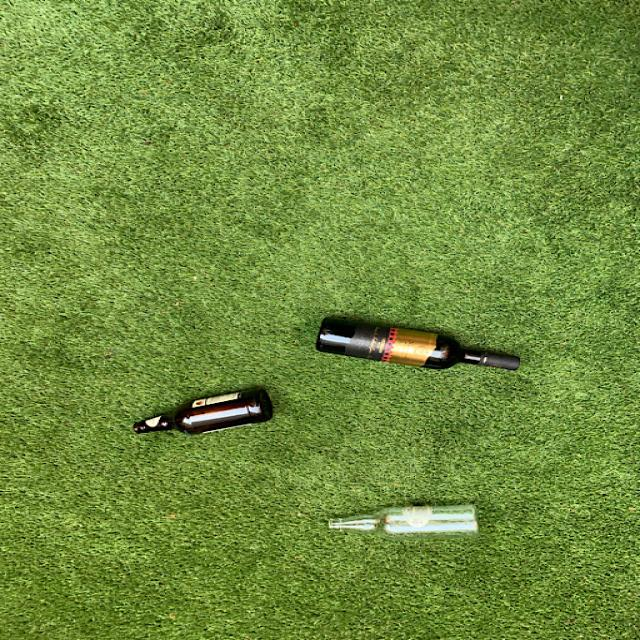litter: (307, 317, 528, 380), (125, 382, 275, 443), (324, 501, 484, 539)
